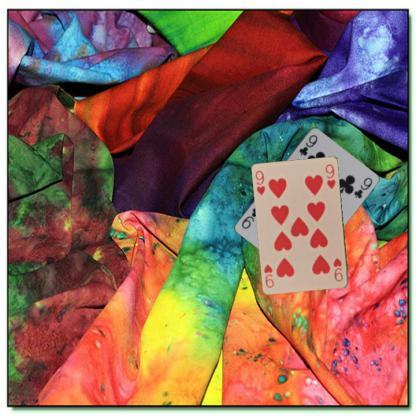9c: (296, 132, 319, 156)
9h: (253, 168, 267, 197), (330, 256, 344, 283)
